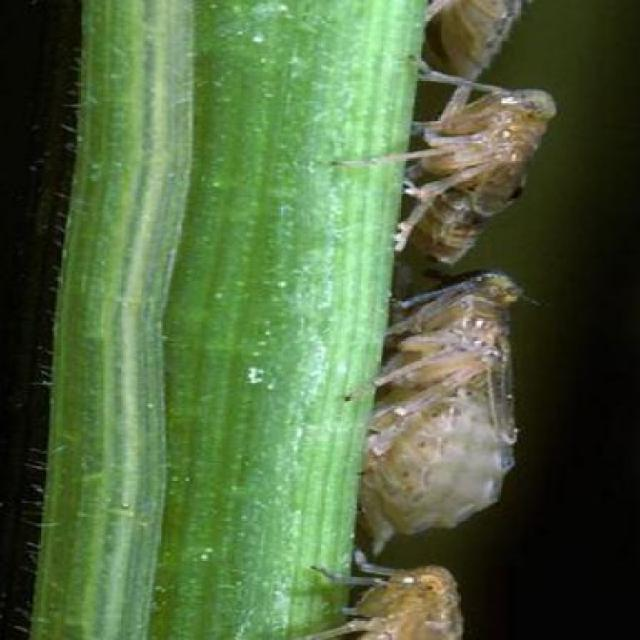brown-planthopper: (365, 272, 537, 548), (405, 64, 550, 273), (333, 554, 469, 640)
